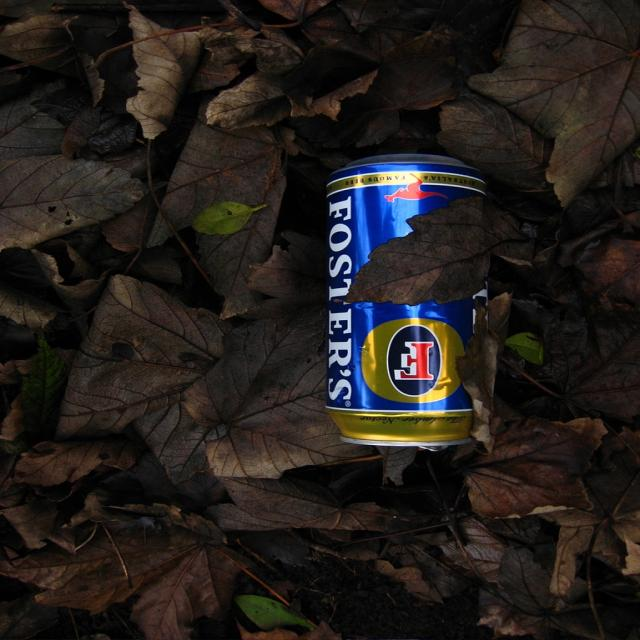fosters: (359, 317, 469, 406)
